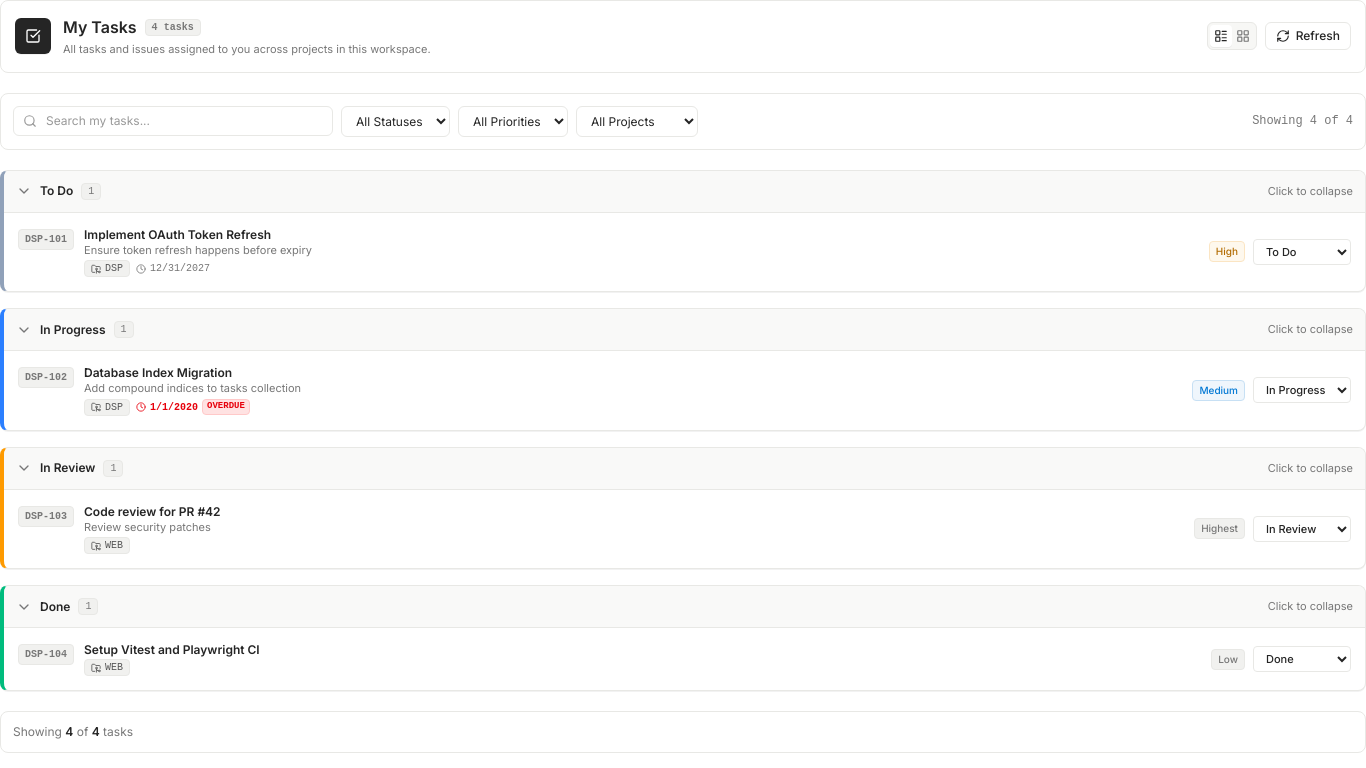
Test case: Workspace My Tasks Feature › WorkspaceTasksPage Component › filters tasks client-side by search query
Expected: the heading "Implement OAuth Token Refresh" is shown, [84,226,271,242]
Type "Index Migration" into the field with placeholder "Search my tasks..." at coordinates (173, 121), box [13,106,333,136]
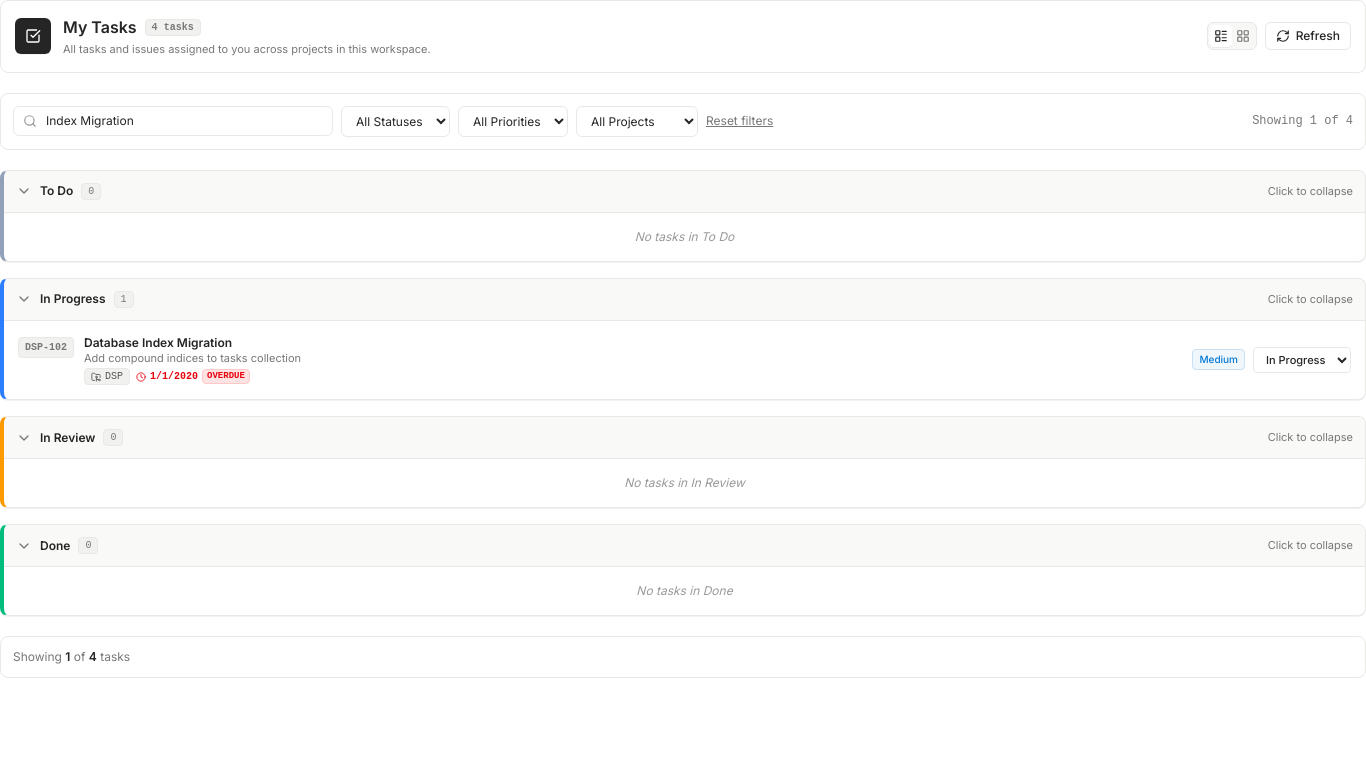
Expected: the heading "Database Index Migration" is shown, [84,334,232,350]
Expected: the heading "Implement OAuth Token Refresh" is gone
